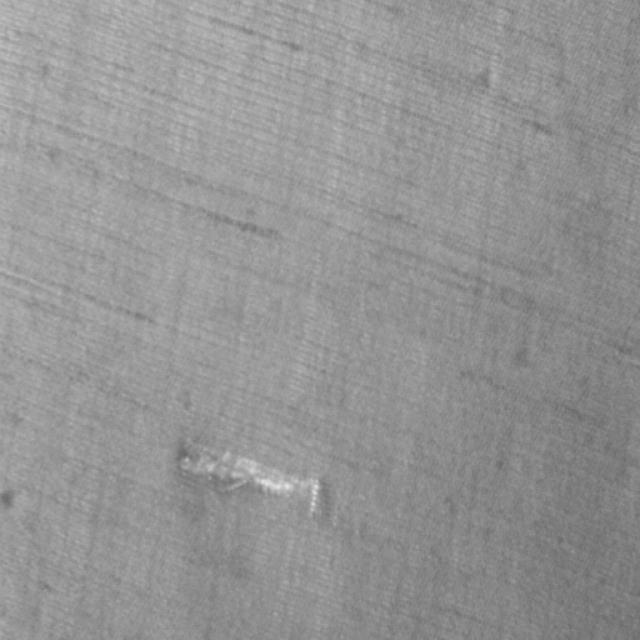hole: (174, 435, 327, 525)
